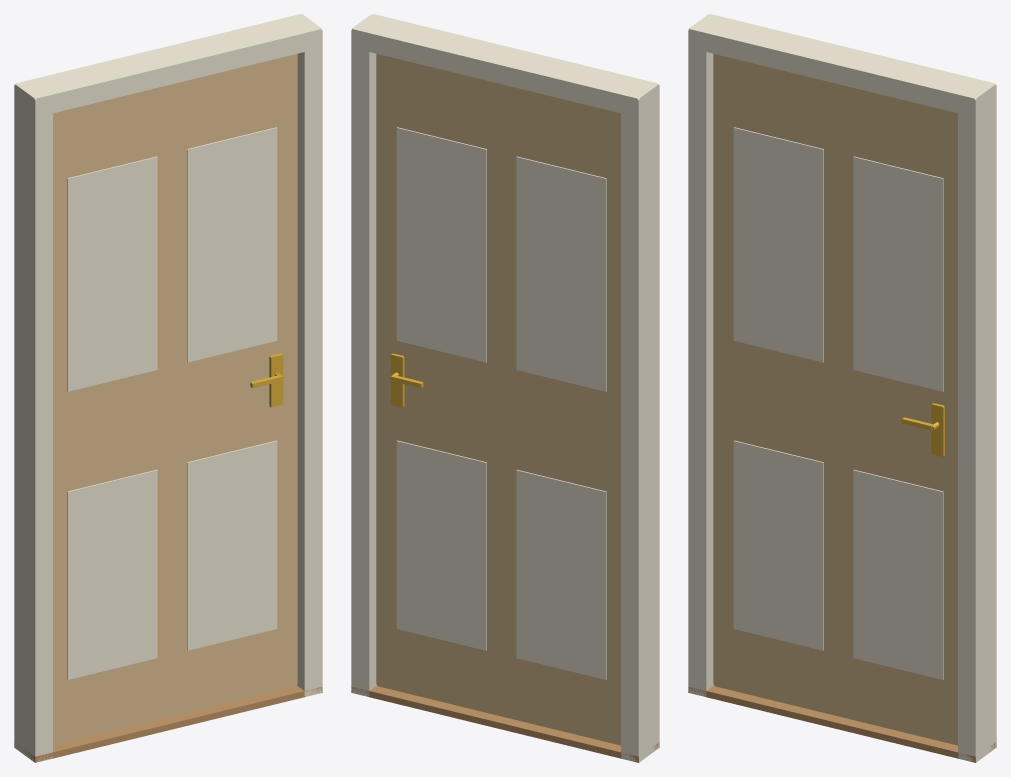
Rendered from Furniture_InteriorDoor.glb.
3 views of the same model, side by side, from view 1: azimuth 30°, elevation 25°; view 2: azimuth 150°, elevation 25°; view 3: azimuth 330°, elevation 25° (orthographic).
Parts seen in each view (by area): view 1: Furniture_InteriorDoor; view 2: Furniture_InteriorDoor; view 3: Furniture_InteriorDoor.
Boxes of the visible parts, x1,y1,x2,y2 form: Furniture_InteriorDoor: (14, 14, 322, 762); Furniture_InteriorDoor: (351, 14, 659, 762); Furniture_InteriorDoor: (688, 14, 996, 762).
Size of the model in its own units: 0.96 by 2.12 by 0.144.
